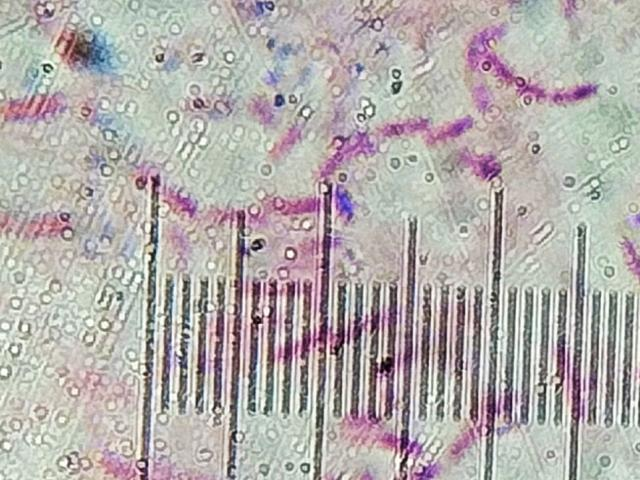E. coli: (543, 76, 601, 112), (11, 92, 70, 127), (485, 52, 533, 95), (319, 130, 369, 166), (373, 433, 424, 458), (18, 209, 62, 237), (459, 47, 480, 95), (373, 113, 413, 138), (453, 146, 496, 169), (428, 116, 471, 138), (271, 195, 312, 217), (473, 23, 505, 51), (172, 190, 209, 213), (448, 427, 474, 456), (615, 239, 640, 269), (99, 450, 129, 474), (272, 126, 296, 153)
